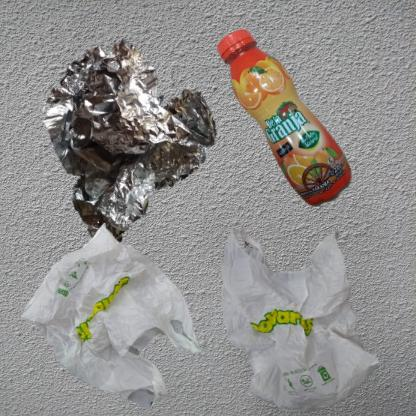aluminio: (10, 10, 280, 293)
bolsa: (10, 213, 213, 416), (213, 213, 389, 416)
botella: (213, 10, 386, 265)
